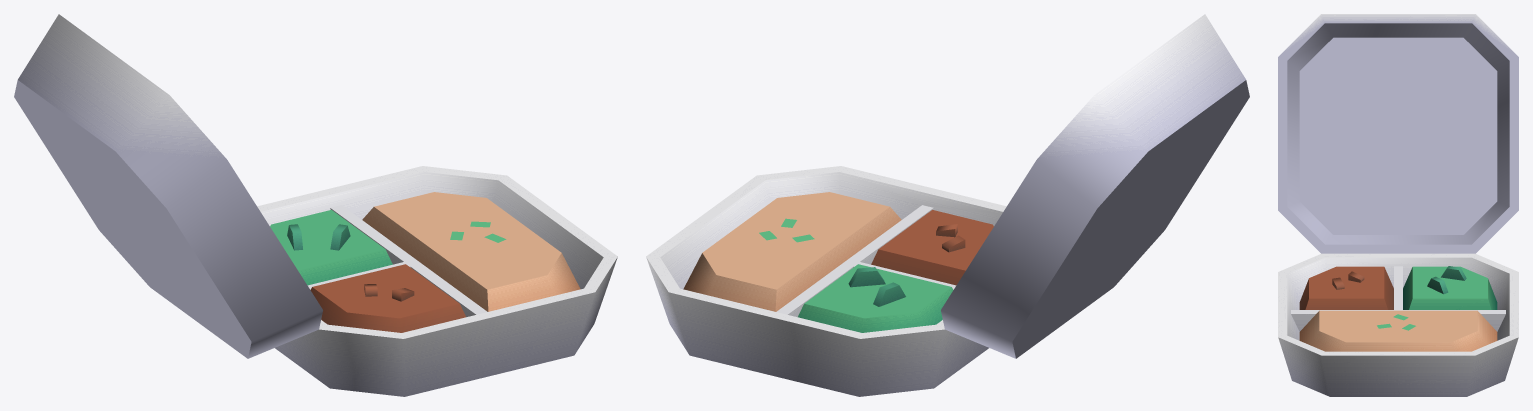
File: styrofoam-dinner.glb
3 renders of one model, left to right at view 1: azimuth 30°, elevation 25°; view 2: azimuth 150°, elevation 25°; view 3: azimuth 270°, elevation 25°, orthographic. The views are drawn at different scales.
Parts seen in each view (by area): view 1: lid, styrofoam-dinner, Group (×3); view 2: lid, styrofoam-dinner, Group (×3); view 3: lid, styrofoam-dinner, Group (×3).
Part boxes in pixels (x1=…): lid: x1=14, y1=14, x2=322, y2=358; styrofoam-dinner: x1=257, y1=166, x2=617, y2=396; Group (×3): x1=270, y1=192, x2=580, y2=332; lid: x1=941, y1=14, x2=1249, y2=358; styrofoam-dinner: x1=646, y1=166, x2=1006, y2=396; Group (×3): x1=683, y1=192, x2=993, y2=332; lid: x1=1278, y1=14, x2=1518, y2=253; styrofoam-dinner: x1=1278, y1=253, x2=1518, y2=396; Group (×3): x1=1299, y1=266, x2=1497, y2=351.
Bounding box in the file's own units: 1.26 × 0.822 × 0.7589.
Materials: 1 (1 with a texture image).
